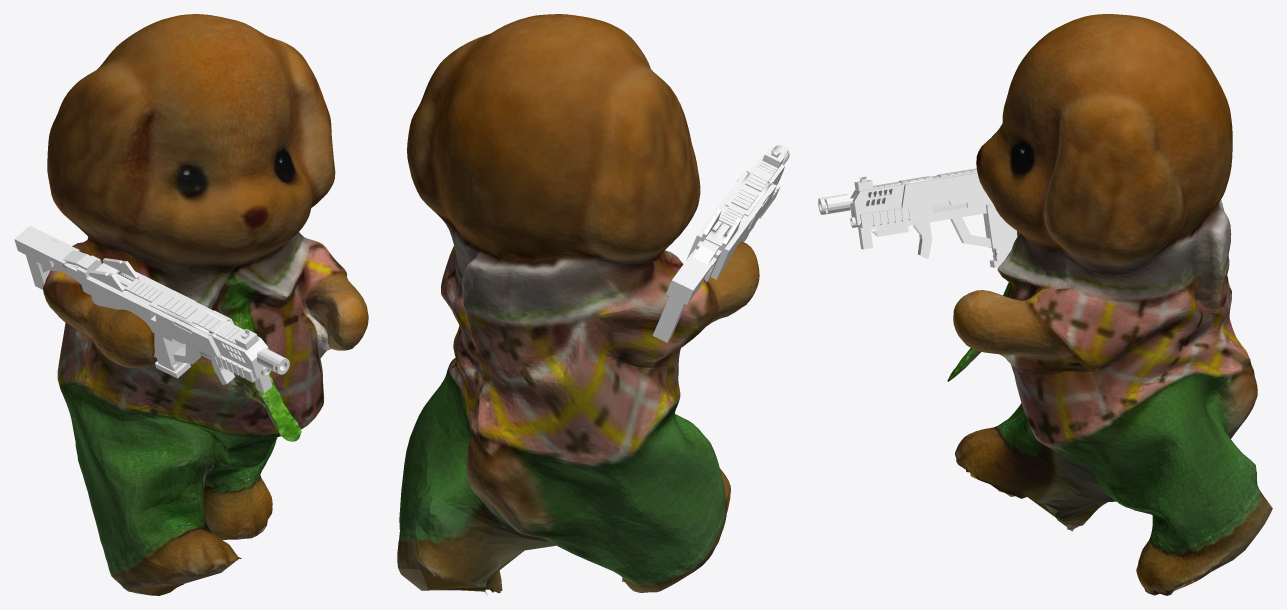
Rendered from RightLegW.fbx.
3 renders of one model, left to right at view 1: azimuth 30°, elevation 25°; view 2: azimuth 150°, elevation 25°; view 3: azimuth 270°, elevation 25°, orthographic. The views are drawn at different scales.
Visible parts, largest first — view 1: metarig.001, AR; view 2: metarig.001, AR; view 3: metarig.001, AR.
Boxes of the visible parts, x1=… form: metarig.001: x1=43, y1=14, x2=368, y2=595; AR: x1=14, y1=225, x2=289, y2=393; metarig.001: x1=397, y1=14, x2=759, y2=593; AR: x1=652, y1=145, x2=789, y2=342; metarig.001: x1=947, y1=14, x2=1272, y2=595; AR: x1=818, y1=168, x2=1017, y2=267.
Size of the model in its own units: 29.42 by 53.05 by 41.27.
2 materials, 2 textured.
